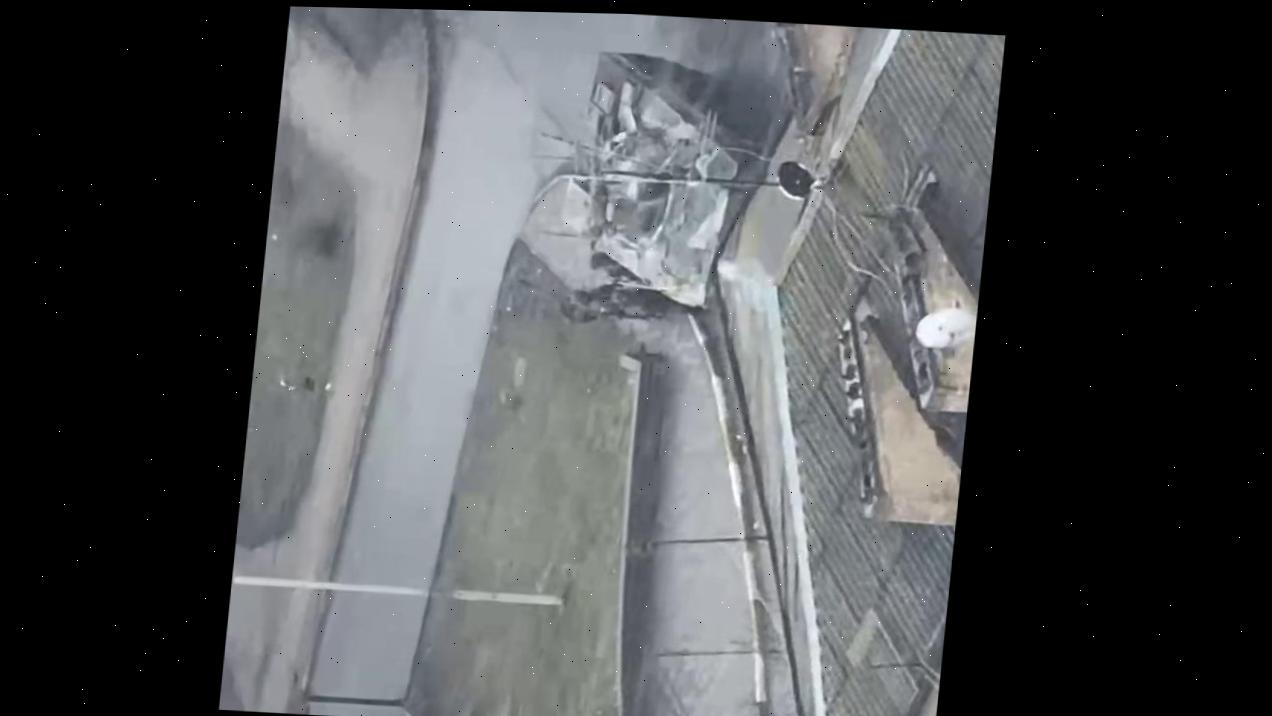person: (611, 281, 710, 323), (568, 280, 633, 317), (581, 246, 642, 281), (548, 296, 603, 330)
tank: (552, 48, 773, 309)
